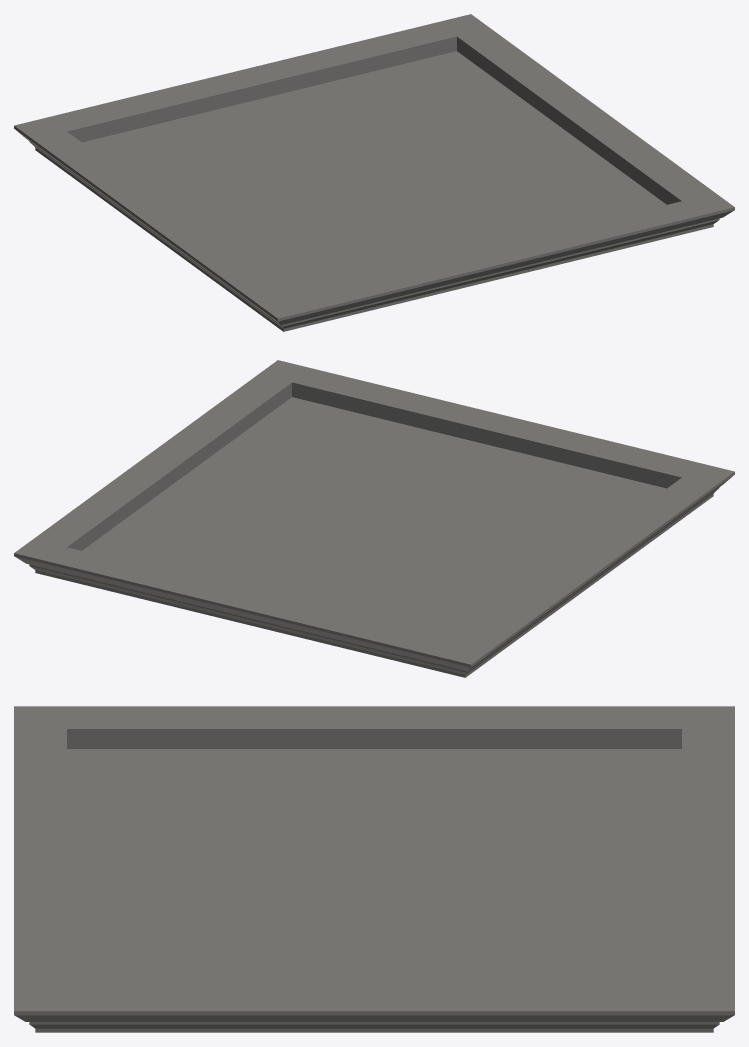
Rendered from SM_Bldg_City_High-Rise_02_03_Roof_02.fbx.
3 renders of one model, top to bottom at view 1: azimuth 30°, elevation 25°; view 2: azimuth 150°, elevation 25°; view 3: azimuth 270°, elevation 25°, orthographic. The views are drawn at different scales.
Parts seen in each view (by area): view 1: SM_Bldg_City_High-Rise_02&03_Roof_02; view 2: SM_Bldg_City_High-Rise_02&03_Roof_02; view 3: SM_Bldg_City_High-Rise_02&03_Roof_02.
Part boxes in pixels (left/top/right/bottom): SM_Bldg_City_High-Rise_02&03_Roof_02: left=14, top=14, right=734, bottom=331; SM_Bldg_City_High-Rise_02&03_Roof_02: left=14, top=360, right=734, bottom=677; SM_Bldg_City_High-Rise_02&03_Roof_02: left=14, top=706, right=734, bottom=1032.
Size of the model in its own units: 1636 by 75.75 by 1636.
